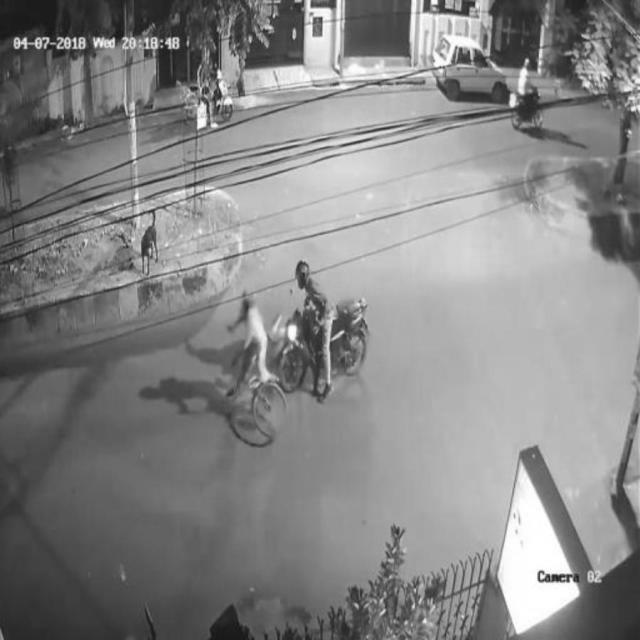accident: (237, 258, 374, 435)
vehicle: (432, 27, 508, 105), (190, 41, 235, 127), (506, 61, 544, 131)
